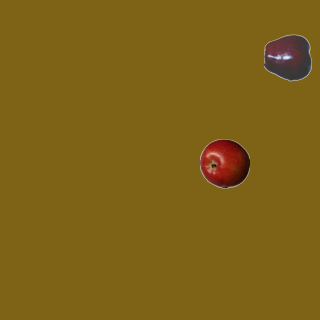Apple Braeburn: (199, 138, 249, 188)
Apple Red Delicious: (263, 32, 313, 82)
